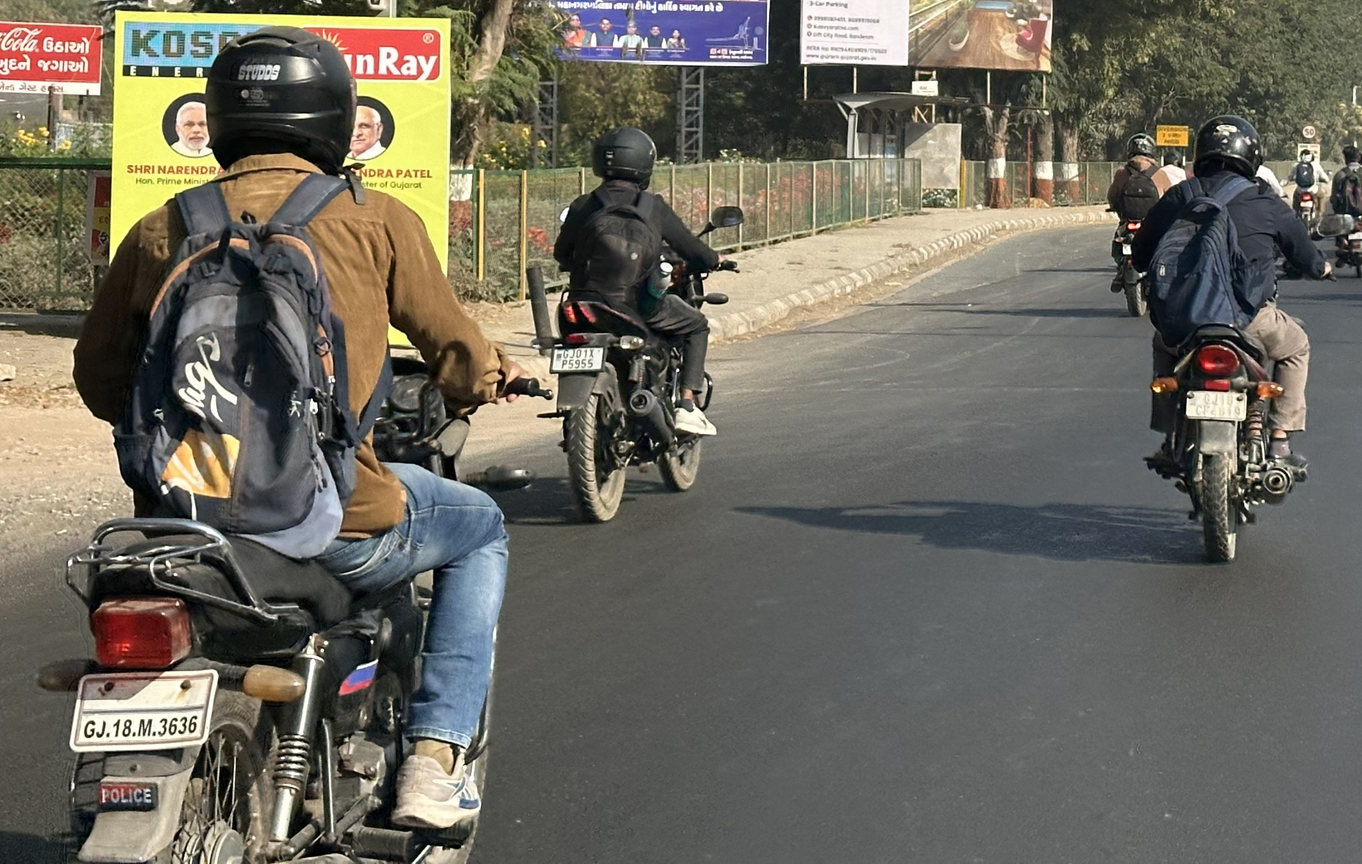BikeWithRider: (25, 18, 564, 864), (1119, 108, 1340, 578), (528, 117, 752, 526), (1104, 124, 1190, 332), (1277, 141, 1334, 249), (1329, 131, 1362, 294)
Helmet: (192, 21, 365, 181), (1184, 112, 1268, 188), (586, 121, 661, 197), (1121, 129, 1163, 166)
